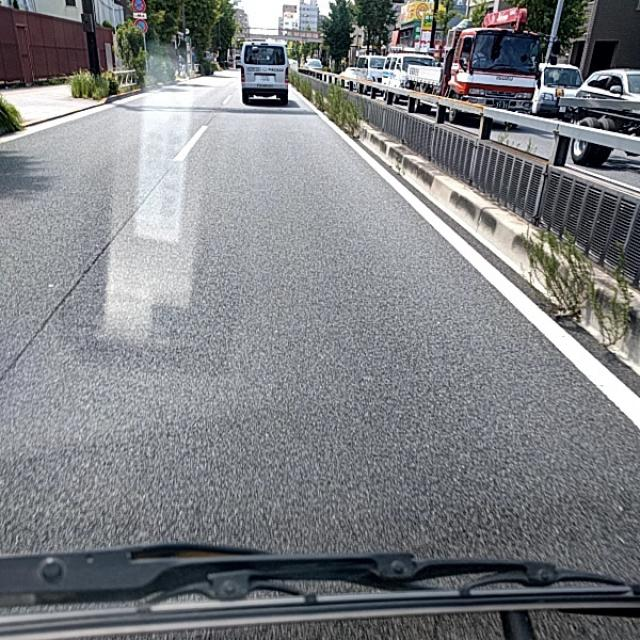pothole: (380, 307, 421, 378)
